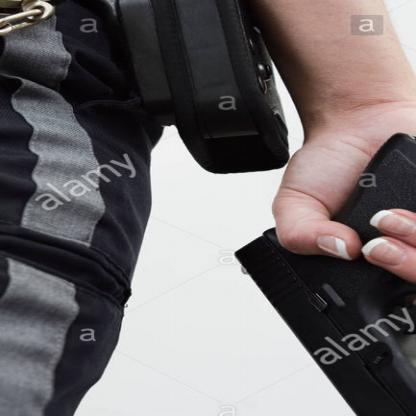gun: (221, 126, 415, 415)
